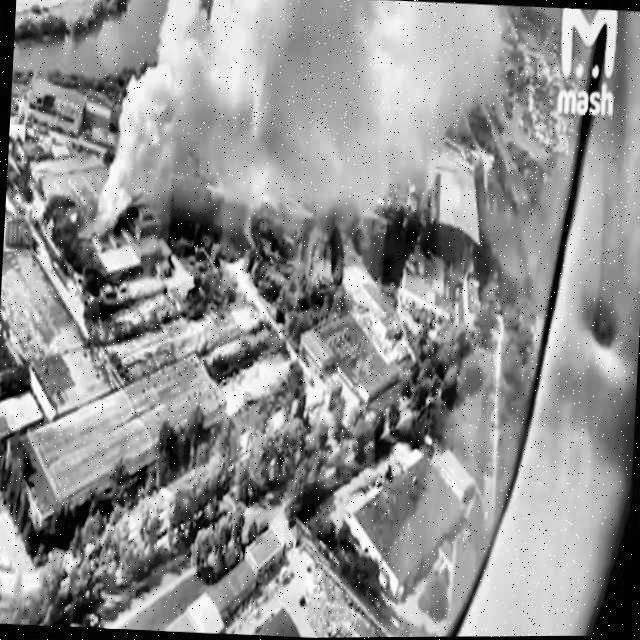Smoke: (92, 0, 498, 250)
